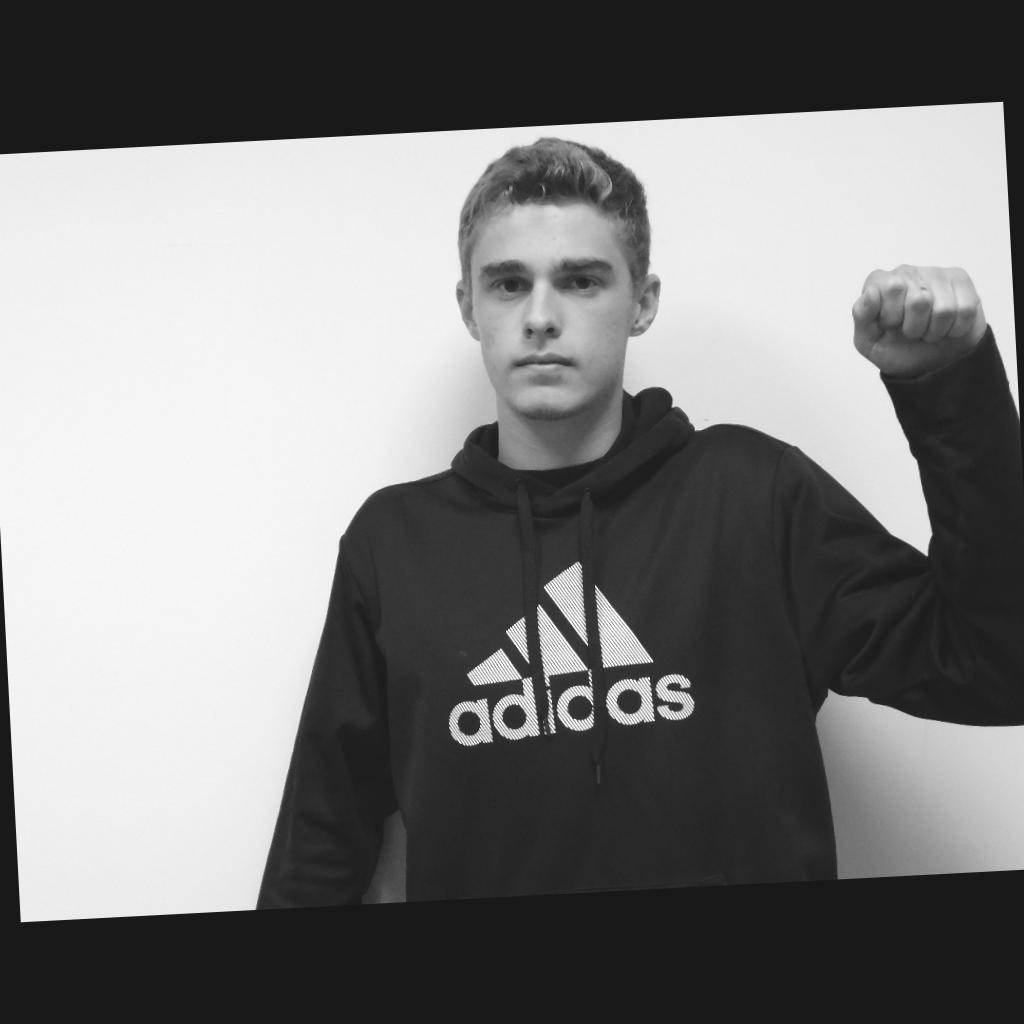yes: (850, 260, 988, 369)
